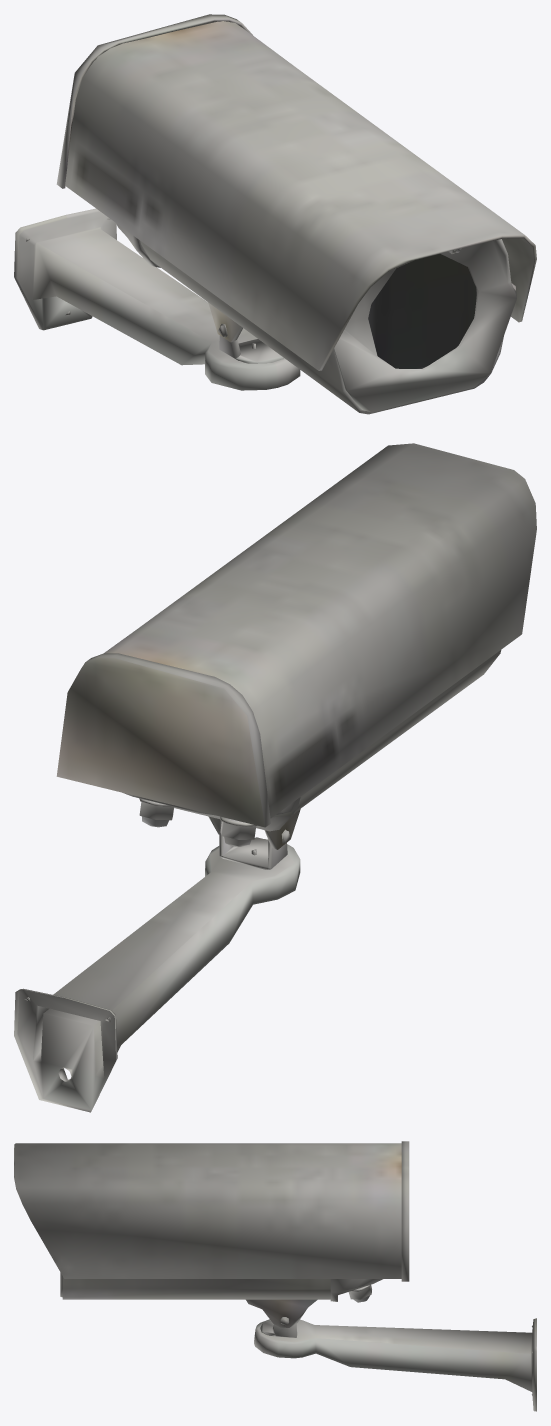
Rendered from security_camera_01_lod2.glb.
3 renders of one model, top to bottom at view 1: azimuth 30°, elevation 25°; view 2: azimuth 150°, elevation 25°; view 3: azimuth 270°, elevation 25°, orthographic. The views are drawn at different scales.
Visible parts, largest first — view 1: security_camera_01; view 2: security_camera_01; view 3: security_camera_01.
Part boxes in pixels (bbox=[...]): security_camera_01: bbox=[14, 14, 536, 414]; security_camera_01: bbox=[14, 443, 536, 1112]; security_camera_01: bbox=[14, 1141, 536, 1411].
Bounding box in the file's own units: 0.1696 × 0.2848 × 0.5536.
Materials: 2 (2 with a texture image).
